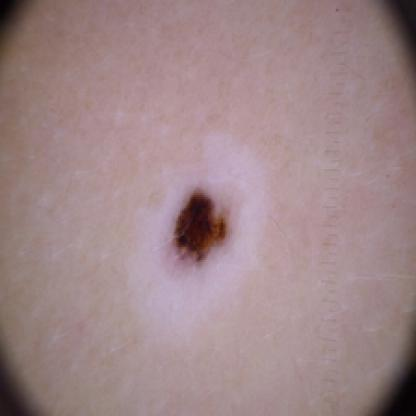benign: (169, 184, 236, 262)
